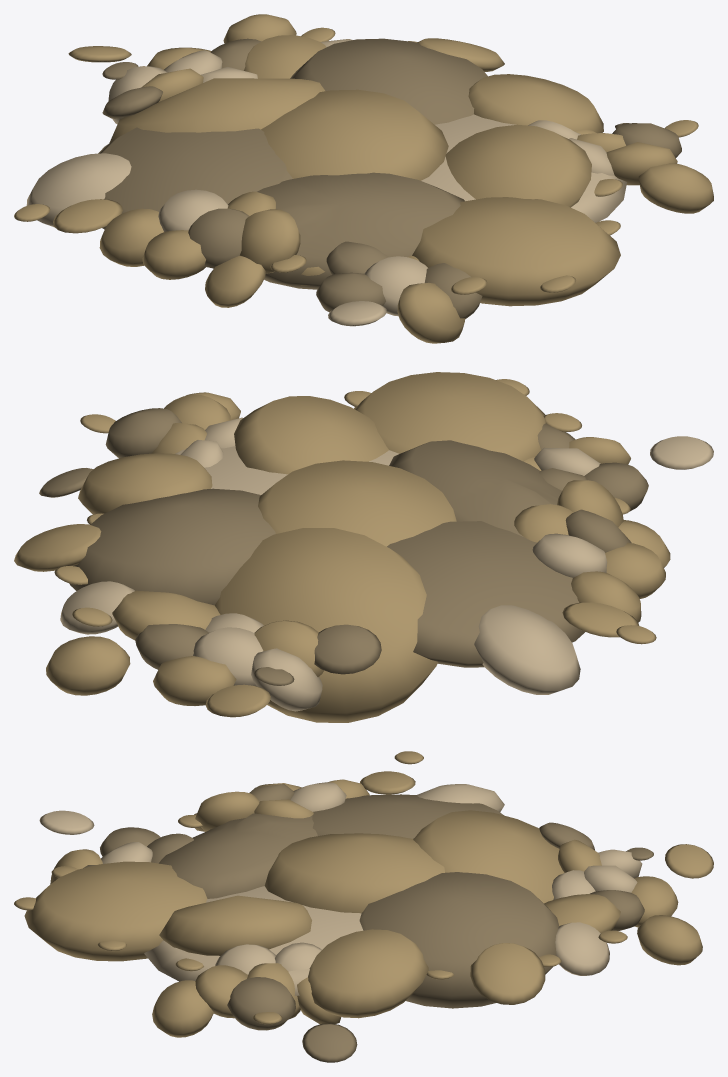
File: DeLaTerre.fbx
3 renders of one model, top to bottom at view 1: azimuth 30°, elevation 25°; view 2: azimuth 150°, elevation 25°; view 3: azimuth 270°, elevation 25°, orthographic. The views are drawn at different scales.
Visible parts, largest first — view 1: pSphere48; view 2: pSphere48; view 3: pSphere48.
Boxes of the visible parts, x1,y1,x2,y2 form: pSphere48: (14,14,713,343); pSphere48: (14,372,713,722); pSphere48: (14,751,713,1062).
Size of the model in its own units: 13.14 by 2.53 by 14.06.
